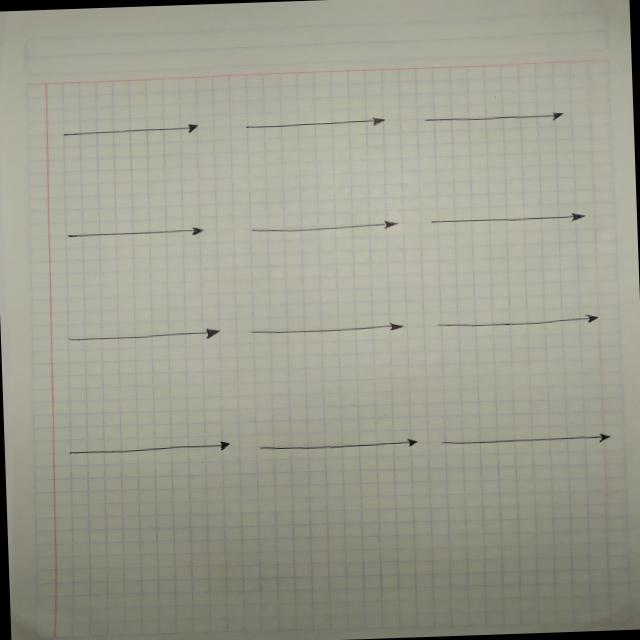arrow_line_right: (57, 316, 225, 356), (238, 314, 418, 348), (238, 212, 404, 248), (56, 434, 236, 466), (427, 307, 608, 338), (409, 100, 569, 134), (418, 205, 592, 235), (54, 114, 213, 146), (436, 428, 614, 456), (250, 434, 423, 462), (59, 220, 214, 248), (236, 110, 386, 138)
